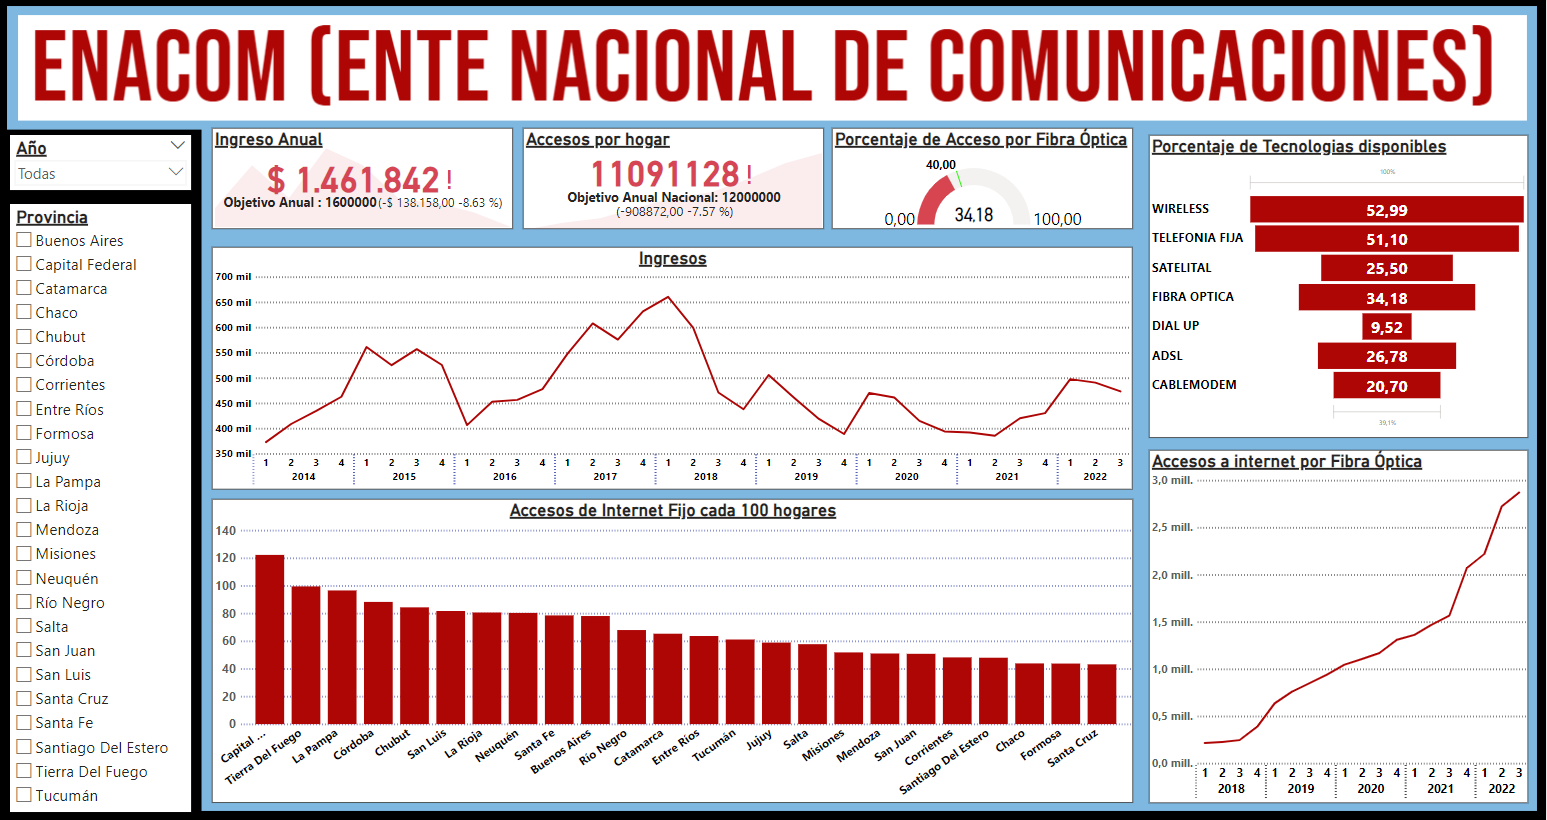

What the dashboard file says about the page in this screenshot:
{"tool":"powerbi","page":{"name":"Página 1","canvas":[3200,1700],"ordinal":0},"visuals":[{"type":"lineChart","title":"Ingresos","fields":{"Y":["Sum(Ingresos_Internet.Ingresos usd)"],"Category":["Calendario.Date.Variación.Date Hierarchy.Year","Ingresos_Internet.Trimestre"]},"box":[439.9,513.2,1906.2,502.4],"z":0},{"type":"slicer","fields":{"Values":["Tecnologias_localidad.Provincia"]},"box":[20.7,424.5,374.8,1259],"z":1000},{"type":"slicer","fields":{"Values":["Ingresos_Internet.Año"]},"box":[20.7,281.6,374.8,113.9],"z":2000},{"type":"funnel","title":"Porcentaje de Tecnologias disponibles","fields":{"Y":["Medidas.WIRELESS","Medidas.TELEFONIA FIJA","Medidas.SATELITAL","Medidas.FIBRA OPTICA","Medidas.DIAL UP","Medidas.ADSL","Medidas.CABLEMODEM"]},"box":[2379.2,281.6,784.8,627.4],"z":3000},{"type":"kpi","title":"Accesos por hogar","fields":{"TrendLine":["InternetFijo_Prov.Año"],"Indicator":["Medidas.Total_Ultimo_Trimestre"],"Goal":["Medidas.KPI_Valor"]},"box":[1082.9,267.1,623.3,209.1],"z":4000},{"type":"gauge","title":"Porcentaje de Acceso por Fibra Óptica","fields":{"Y":["Medidas.FIBRA OPTICA"],"MinValue":["Medidas.KPImin"],"MaxValue":["Medidas.KPImax"],"TargetValue":["Medidas.KPI1"]},"box":[1722.8,267.1,623.3,209.1],"z":5000},{"type":"kpi","title":"Ingreso Anual","fields":{"TrendLine":["Ingresos_Internet.Año"],"Indicator":["Medidas.IngresosPorAnio"],"Goal":["Medidas.KPI_Valor_objetivo_Ingresos"]},"box":[439,267.1,623.3,209.1],"z":6000},{"type":"columnChart","title":"Accesos de Internet Fijo cada 100 hogares","fields":{"Y":["Medidas.Acceso cada 100 hogares"],"Category":["InternetFijo_Prov.Provincia"]},"box":[439,1035.3,1907.1,629.5],"z":7000},{"type":"lineChart","title":"Accesos a internet por Fibra Óptica","fields":{"Category":["Calendario.Date.Variación.Date Hierarchy.Year","Accesos_por_tecnologia.Trimestre"],"Y":["Sum(Accesos_por_tecnologia.Fibra óptica)"]},"box":[2379.2,933.9,784.8,730.9],"z":9000}]}

Visuals, with their boxes in screenshot pixels (x1, y1, x2, y2), scaled from the page's 3200x1700 canvas onto the 1547x820 screenshot:
"Ingresos" lineChart: (x1=213, y1=248, x2=1134, y2=490)
slicer - Tecnologias_localidad.Provincia: (x1=10, y1=205, x2=191, y2=812)
slicer - Ingresos_Internet.Año: (x1=10, y1=136, x2=191, y2=191)
"Porcentaje de Tecnologias disponibles" funnel: (x1=1150, y1=136, x2=1530, y2=438)
"Accesos por hogar" kpi: (x1=524, y1=129, x2=825, y2=230)
"Porcentaje de Acceso por Fibra Óptica" gauge: (x1=833, y1=129, x2=1134, y2=230)
"Ingreso Anual" kpi: (x1=212, y1=129, x2=514, y2=230)
"Accesos de Internet Fijo cada 100 hogares" columnChart: (x1=212, y1=499, x2=1134, y2=803)
"Accesos a internet por Fibra Óptica" lineChart: (x1=1150, y1=450, x2=1530, y2=803)
